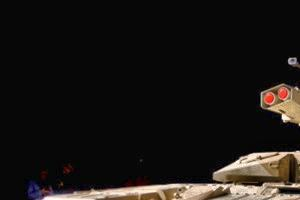tanks: (43, 152, 300, 200), (261, 85, 300, 127)
